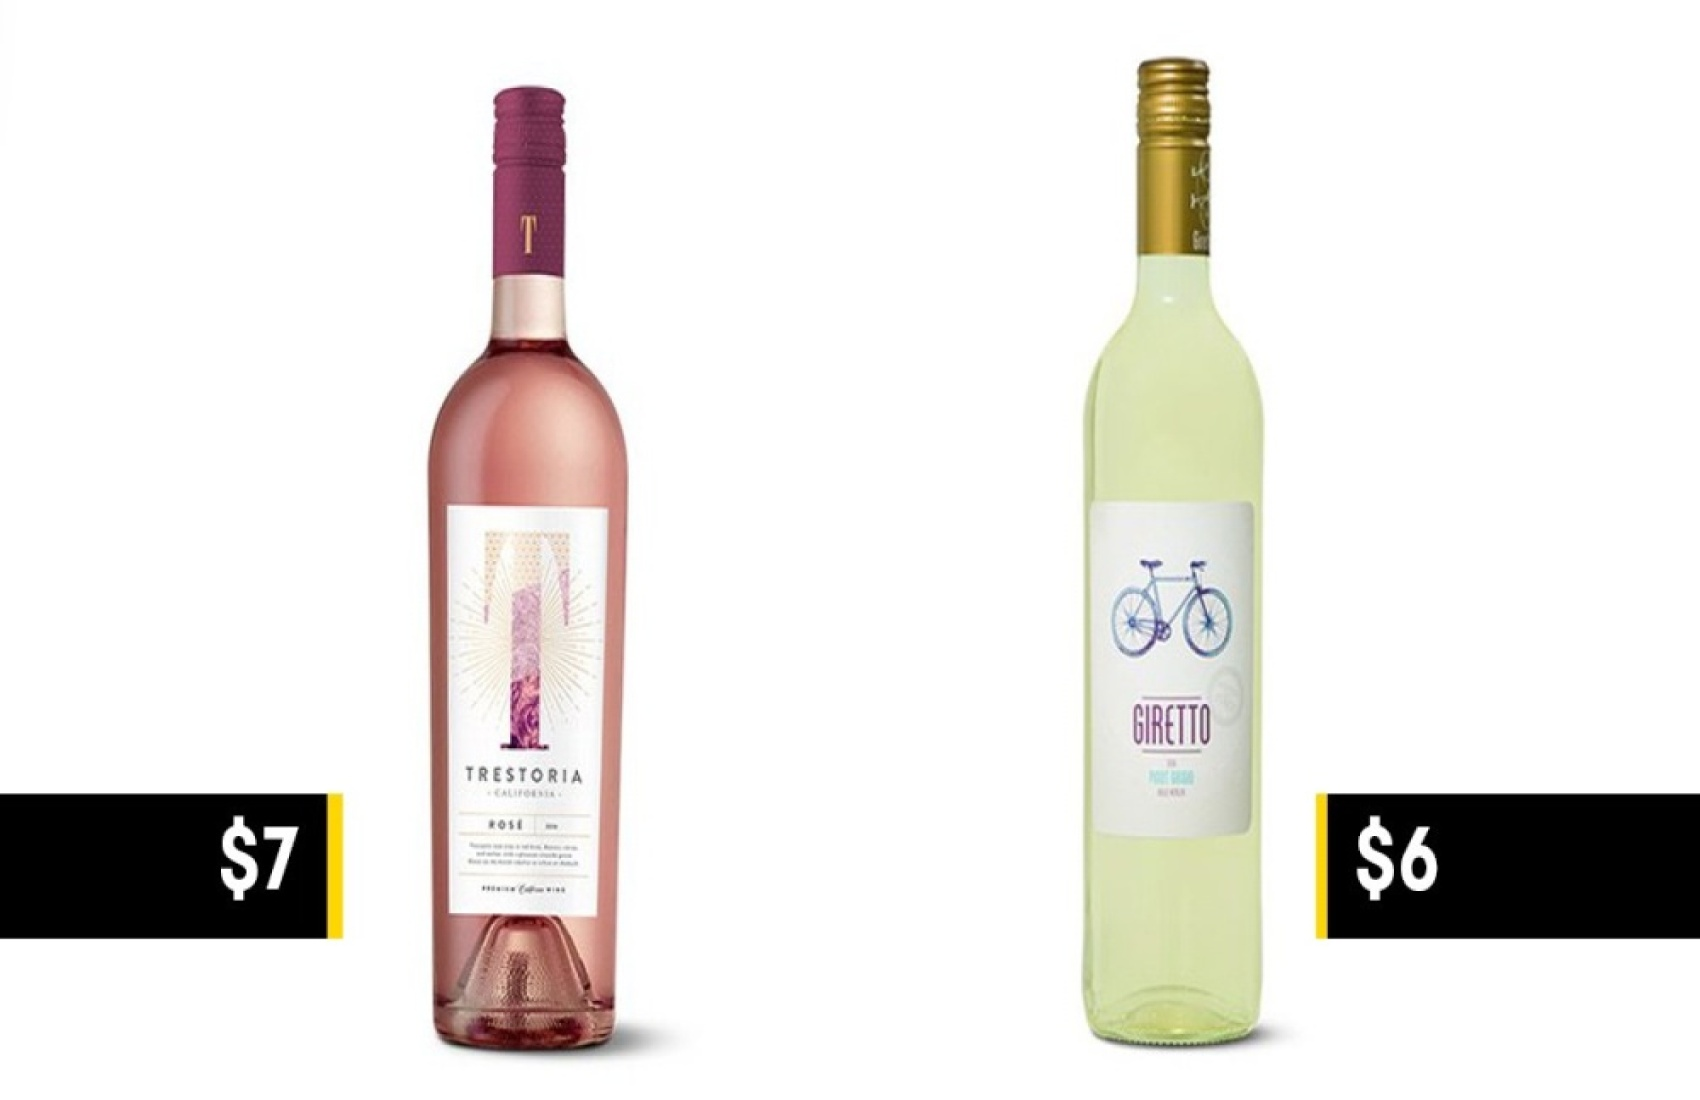wine: (1063, 81, 1265, 1044), (418, 90, 620, 1053)
